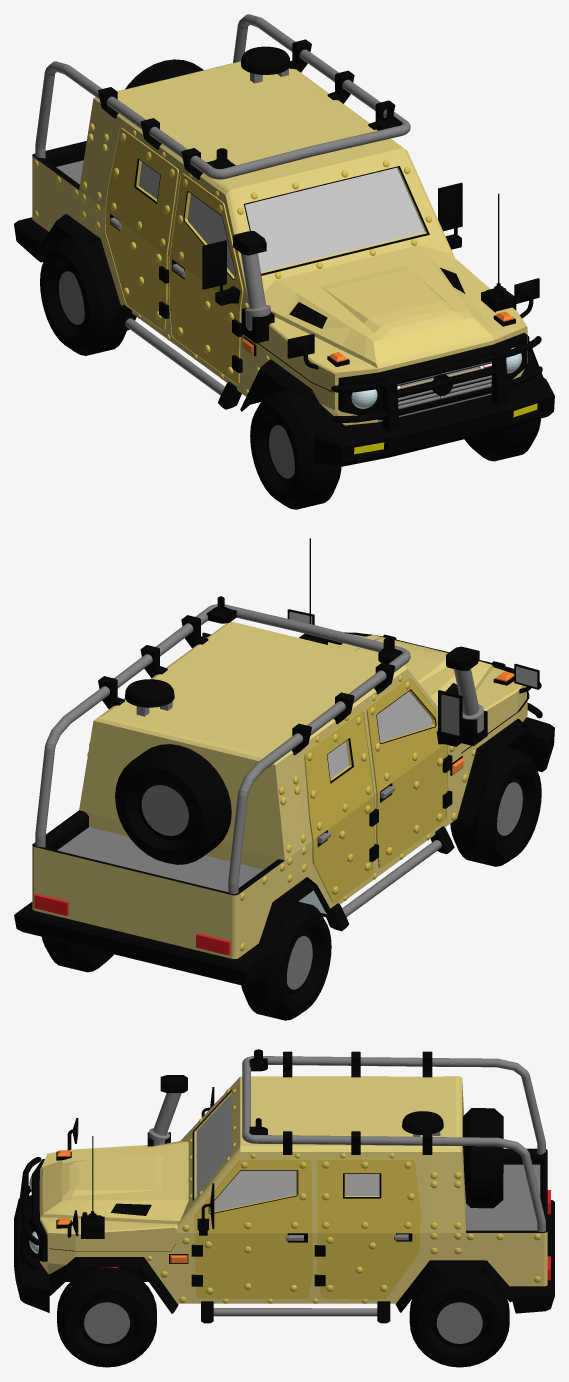
Rendered from Авто 20.fbx.
3 renders of one model, top to bottom at view 1: azimuth 30°, elevation 25°; view 2: azimuth 150°, elevation 25°; view 3: azimuth 270°, elevation 25°, orthographic. The views are drawn at different scales.
Visible parts, largest first — view 1: Cube, Cylinder.002, Cube.002, Cylinder, Cube.001, Cube.003; view 2: Cube, Cylinder.002, Cube.002, Cylinder, Cube.003; view 3: Cube, Cylinder.002, Cube.002, Cylinder, Cube.001, Cube.003.
Boxes of the visible parts, x1,y1,x2,y2 form: Cube: (14,14,554,466); Cylinder.002: (40,59,540,509); Cube.002: (233,231,274,343); Cylinder: (241,46,290,74); Cube.001: (481,193,516,312); Cube.003: (206,107,402,168); Cube: (14,604,554,986); Cylinder.002: (42,744,541,1020); Cube.002: (446,646,487,746); Cylinder: (125,679,174,707); Cube.003: (206,596,402,663); Cube: (14,1051,554,1323); Cylinder.002: (57,1108,509,1367); Cube.002: (147,1075,187,1146); Cylinder: (402,1111,443,1134); Cube.001: (81,1136,104,1238); Cube.003: (249,1049,267,1134).
Size of the model in its own units: 118 by 123 by 254.
